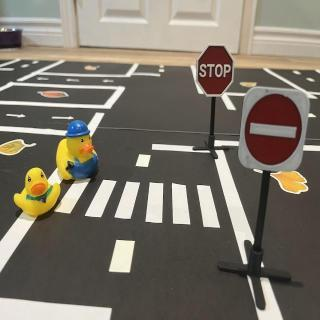duck_regular: (15, 169, 61, 219)
duck_specialty: (57, 122, 100, 185)
road_crosswalk: (51, 178, 225, 232)
road_oneway: (51, 113, 75, 124), (5, 112, 27, 122), (66, 78, 82, 86), (38, 77, 52, 84), (102, 79, 116, 85)
sign_noentry: (239, 87, 311, 175)
sign_stop: (197, 47, 235, 101)
